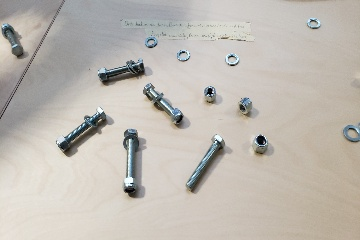Bolt: (180, 132, 229, 193)
FalseAssembly: (55, 104, 107, 154), (120, 126, 146, 196), (1, 21, 28, 57)
FinishedAssembly: (141, 83, 188, 128), (94, 55, 148, 83)
Nut: (248, 133, 273, 156), (235, 96, 255, 114), (203, 85, 218, 104)
Washer: (342, 123, 360, 142), (174, 48, 193, 64), (143, 34, 158, 51), (305, 17, 322, 30), (224, 53, 240, 66)
